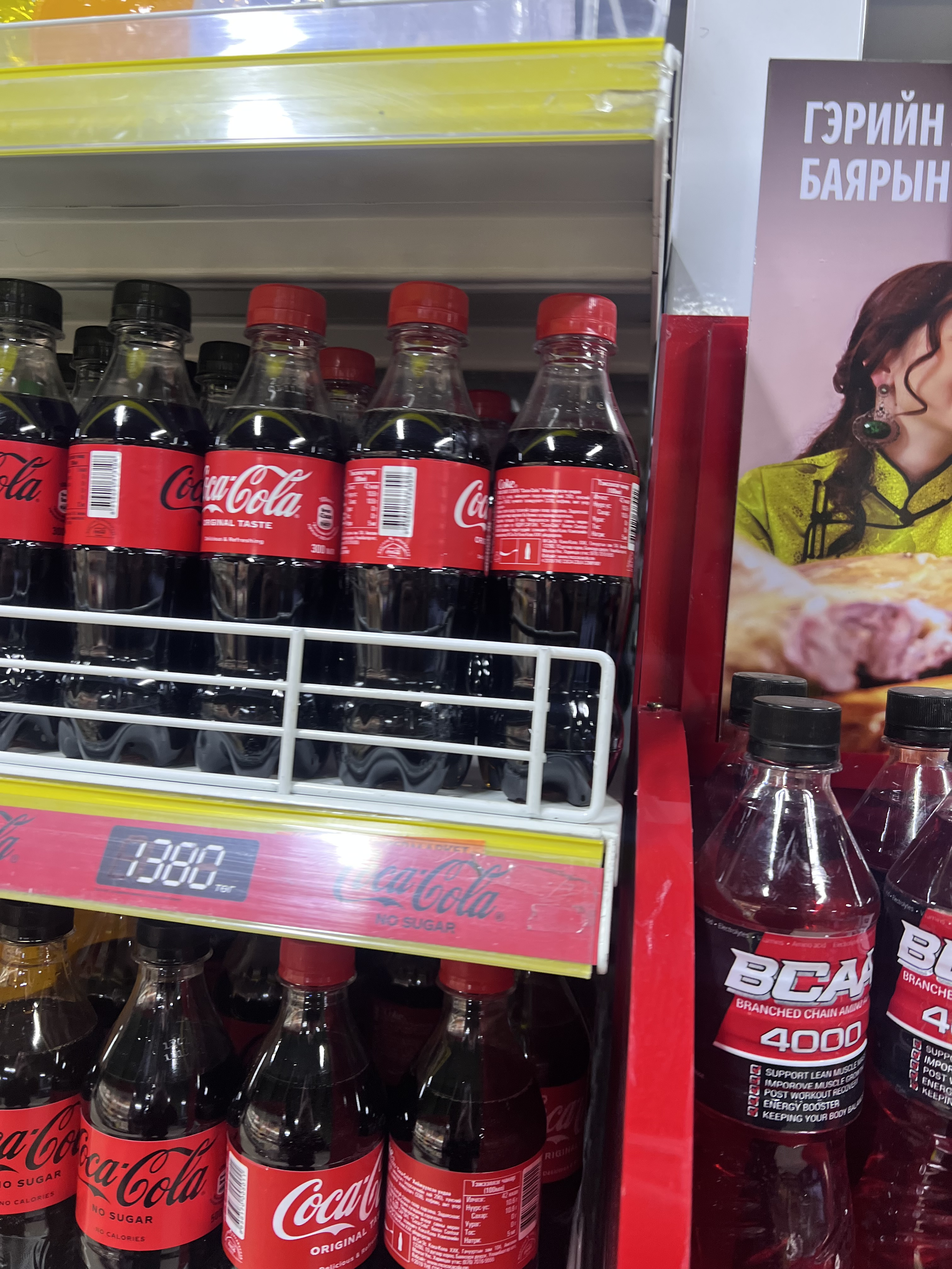coca_cola_500ml: (196, 284, 344, 725), (76, 918, 241, 1269), (340, 281, 490, 639), (224, 939, 385, 1269), (66, 279, 209, 618), (0, 899, 97, 1269), (0, 279, 75, 607)
